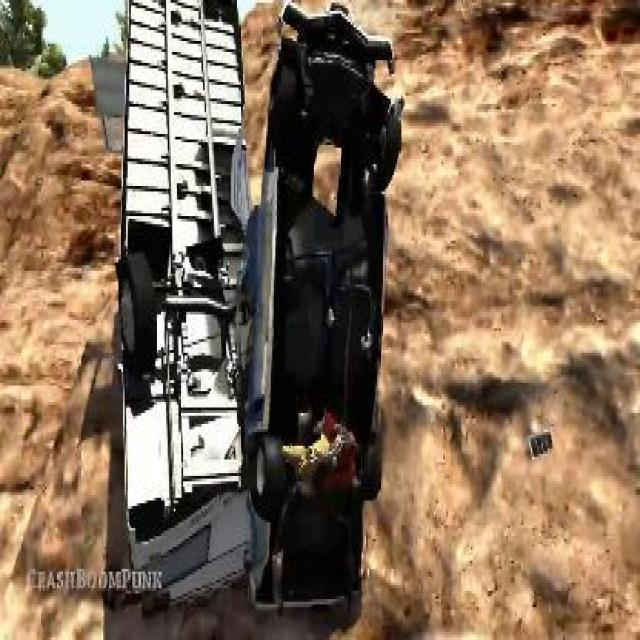accident: (92, 0, 407, 637)
